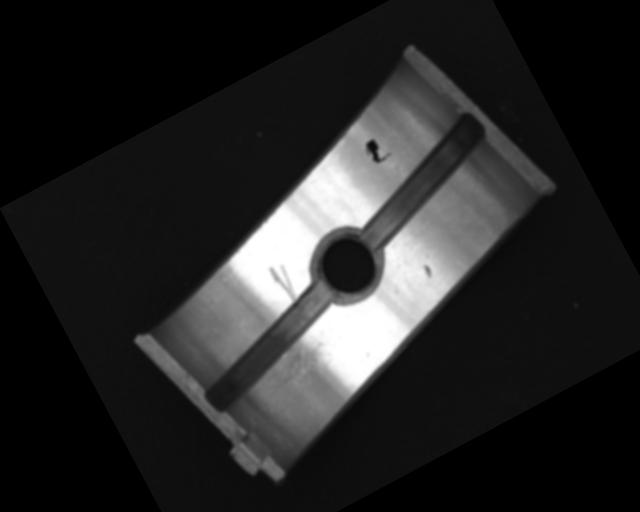blot: (360, 133, 393, 167)
bruise: (420, 261, 434, 280)
gap: (334, 110, 510, 253), (183, 278, 355, 414)
hole: (299, 217, 396, 313)
nick: (266, 260, 302, 307)
scratch: (245, 324, 353, 414)
